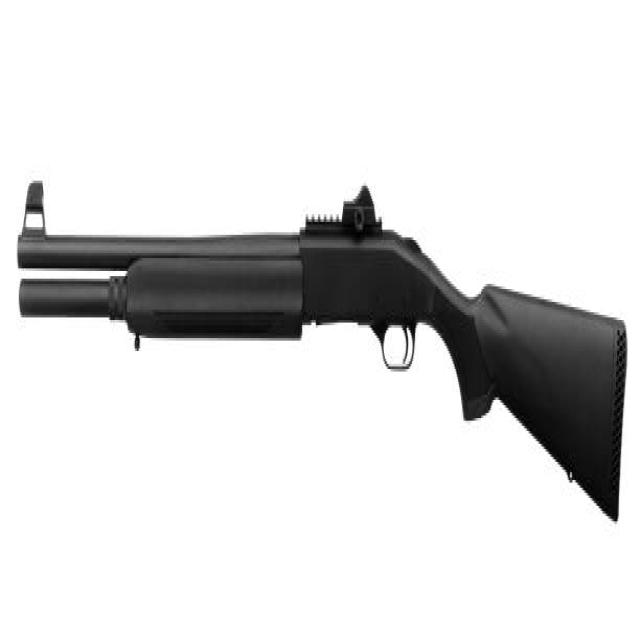rifle: (11, 177, 630, 538)
